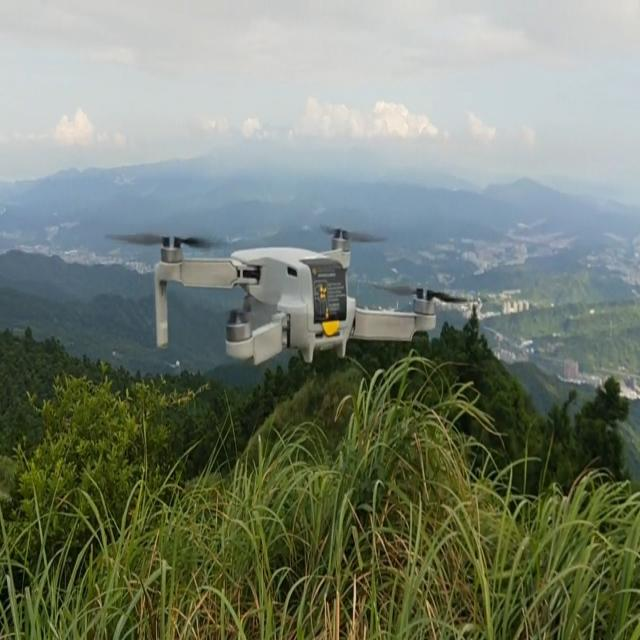Drone: (156, 224, 437, 369)
